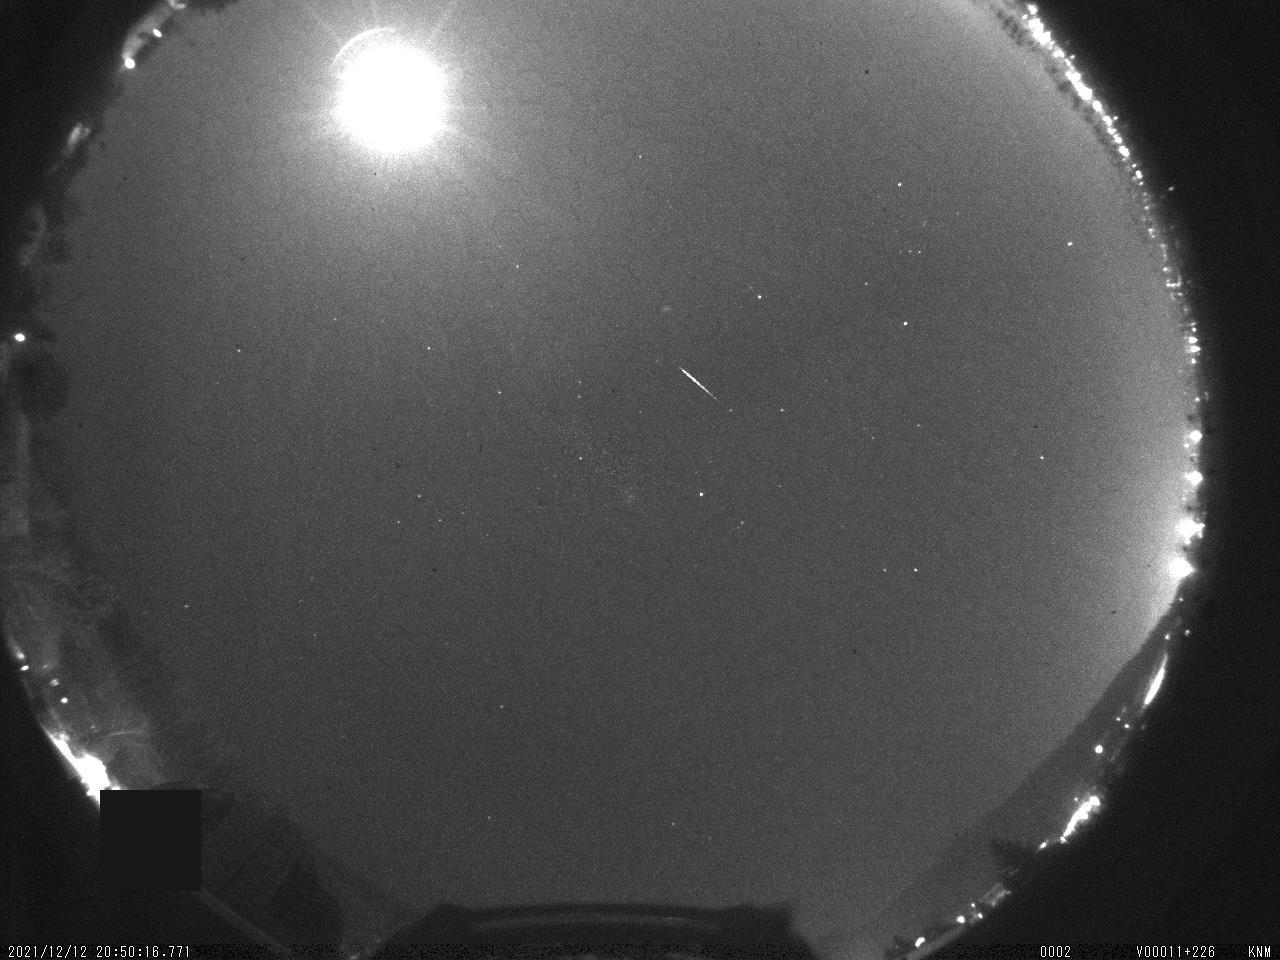Meteor: (676, 363, 718, 403)
